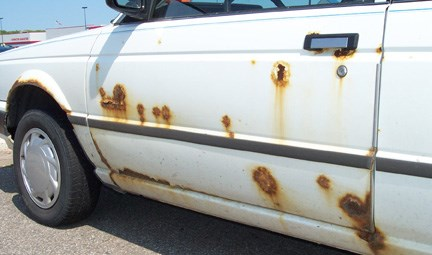rust: (341, 195, 389, 251), (91, 81, 137, 113), (246, 164, 285, 199), (267, 60, 296, 88), (149, 103, 177, 125), (216, 114, 237, 140), (313, 171, 335, 193)
